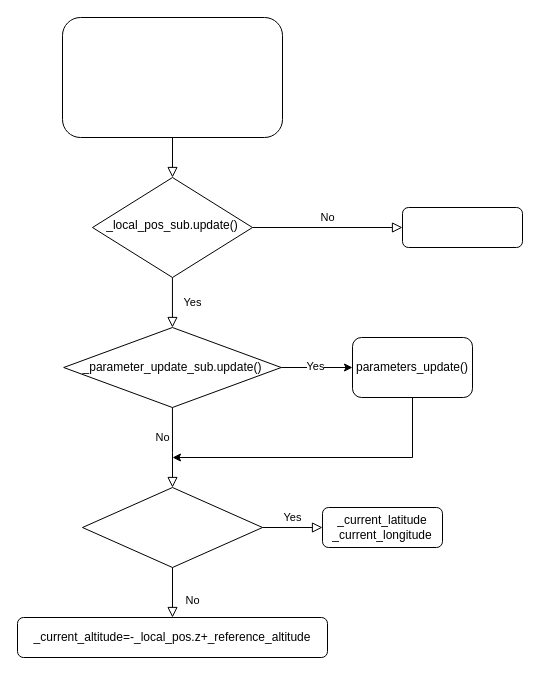
The diagram is 540 pixels wide and 675 high, and some of its shapes have lost their labels. The shapes that lost their labels are listed below. From the top down, each one's centre as x and y in pixels, then its label:
the point at 172,77: FixedwingPositionControl::Run()
the point at 462,227: return
the point at 172,527: _global_pos_sub.update()
